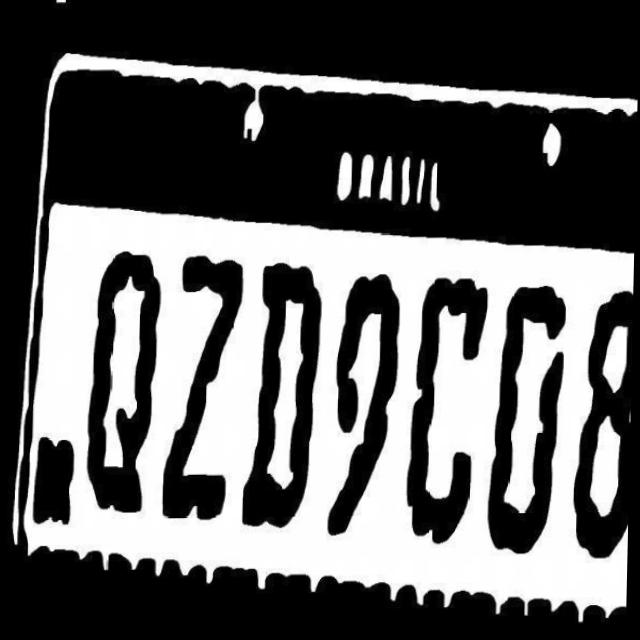0: (484, 278, 570, 567)
8: (569, 288, 635, 569)
9: (321, 268, 408, 552)
c: (404, 252, 495, 559)
d: (239, 255, 325, 543)
q: (84, 233, 161, 524)
z: (160, 243, 251, 530)
